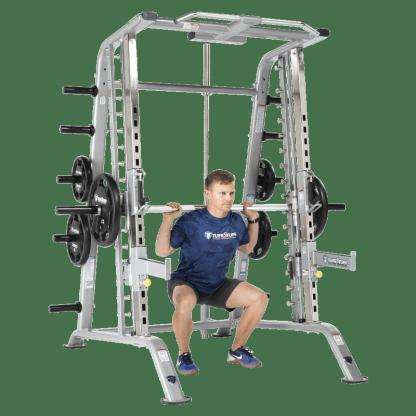smith machine: (50, 9, 370, 402)
